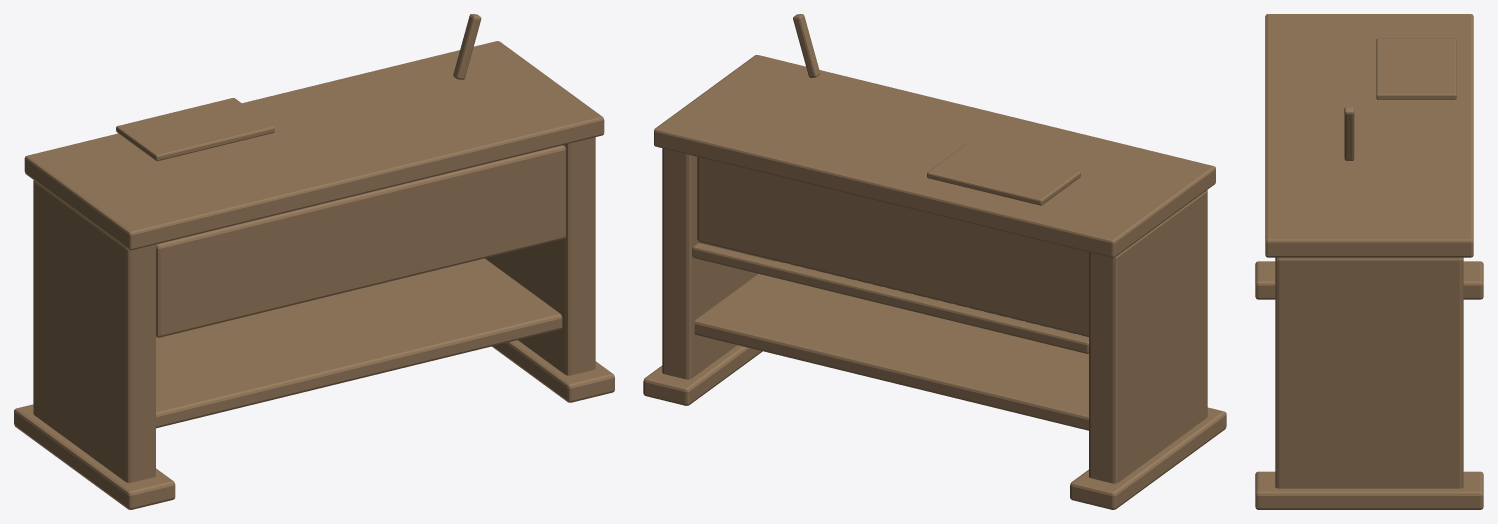
Rendered from monastery_physic_bench.glb.
The picture shows the model from 3 angles, left to right: view 1: azimuth 30°, elevation 25°; view 2: azimuth 150°, elevation 25°; view 3: azimuth 270°, elevation 25°; orthographic projection. The views are drawn at different scales.
Visible parts, largest first — view 1: world; view 2: world; view 3: world.
Boxes of the visible parts, x1,y1,x2,y2 form: world: (14, 14, 614, 509); world: (643, 14, 1226, 509); world: (1255, 14, 1483, 509).
Bounding box in the file's own units: 2 × 1.44 × 0.8292.
